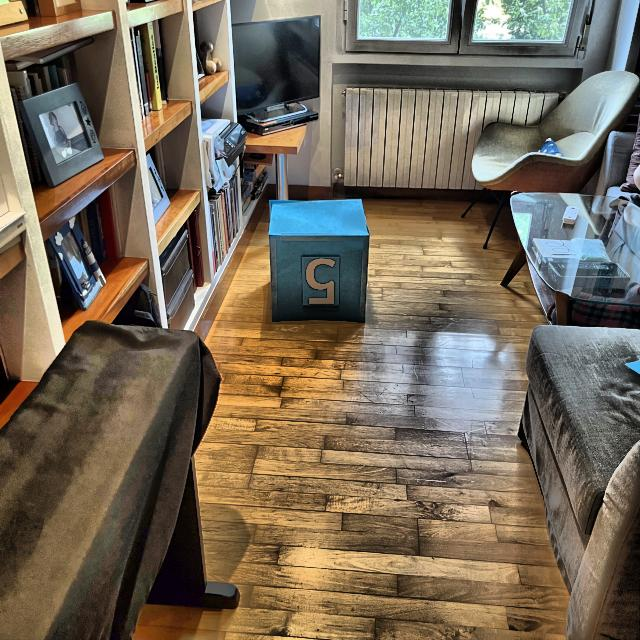blue box: (268, 198, 370, 326)
five: (305, 258, 336, 306)
